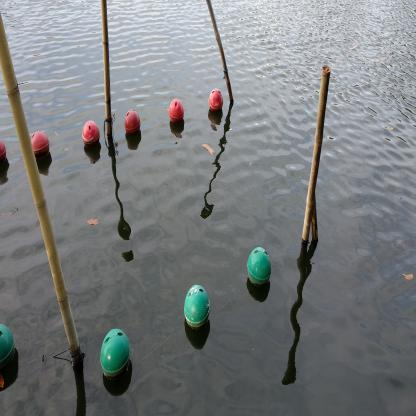green_buoy: (100, 327, 132, 379), (184, 284, 211, 331), (246, 244, 272, 288), (0, 322, 16, 390)
red_buoy: (30, 129, 52, 168), (81, 120, 101, 152), (168, 97, 186, 127), (124, 108, 142, 136), (210, 90, 224, 110), (1, 140, 7, 176)
